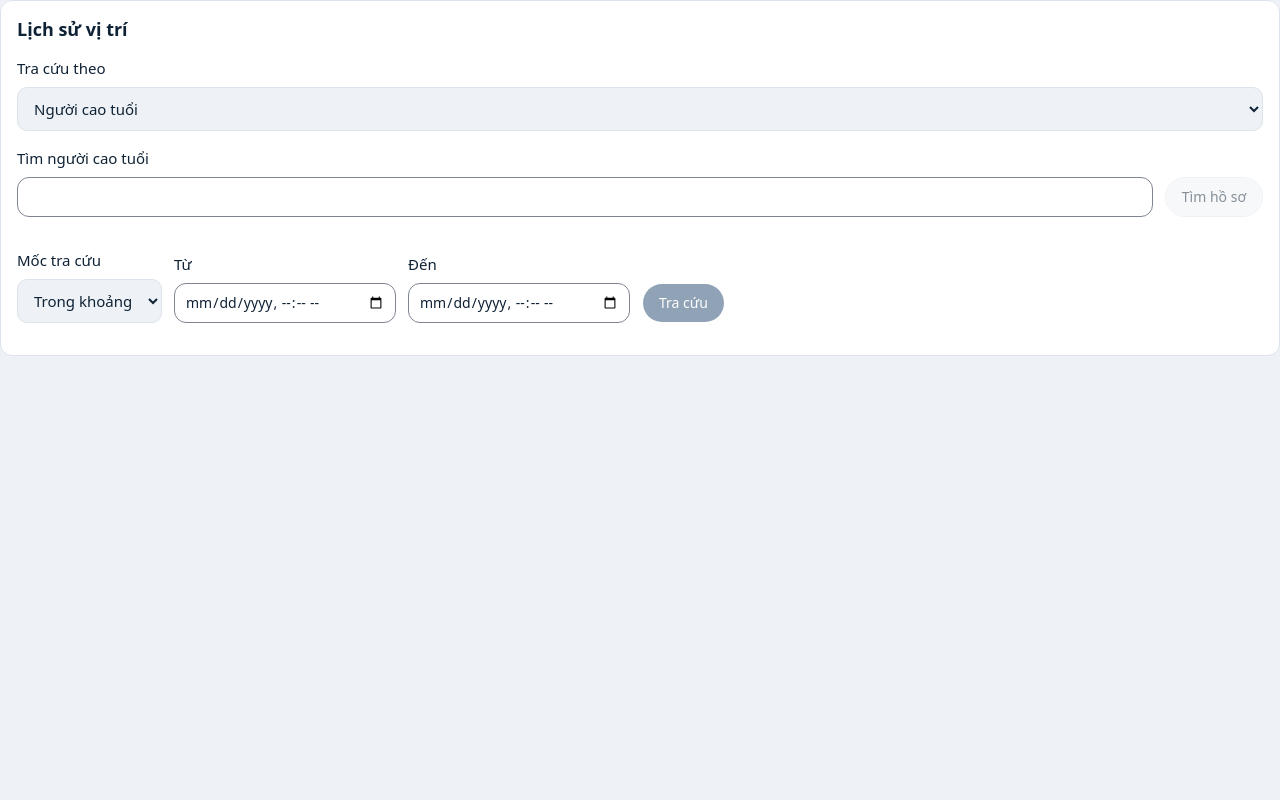
Test: FR_035_lookupShowsCorrectedAndPendingHistoryUsingVietnamTime
Type "NCT12" into the field labelled "Tìm người cao tuổi" at (585, 197), box [17,177,1153,217]
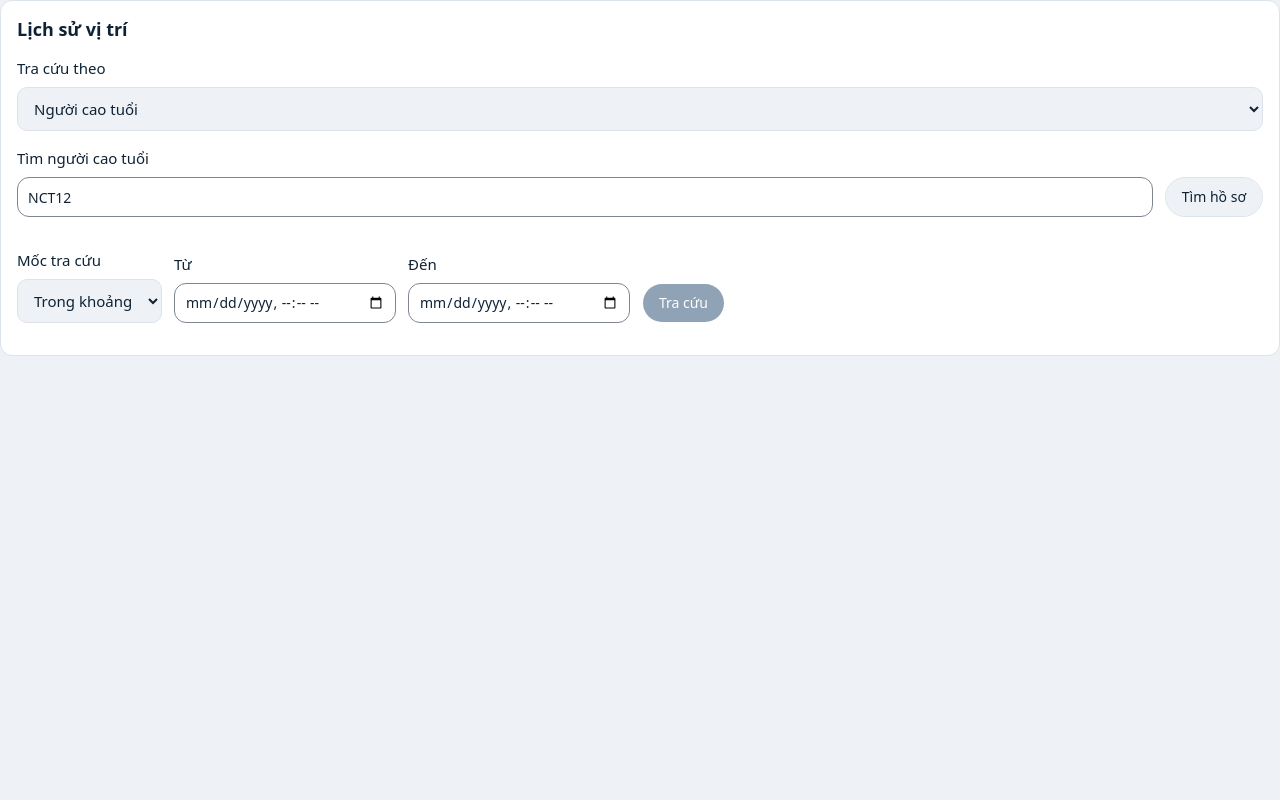
Click the button "Tìm hồ sơ" at (1214, 197), box [1165,177,1263,217]
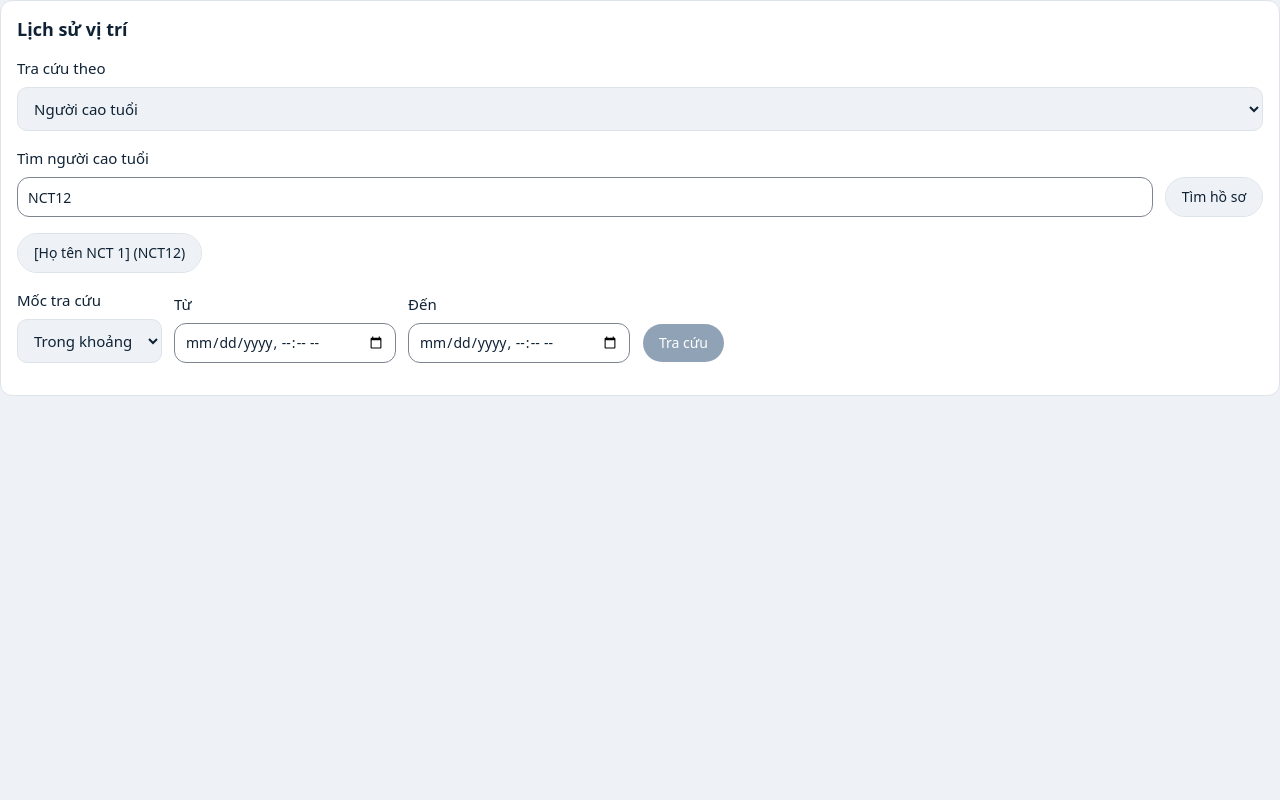
Click the button with aria-label "Chọn NCT12" at (110, 253), box [17,233,202,273]
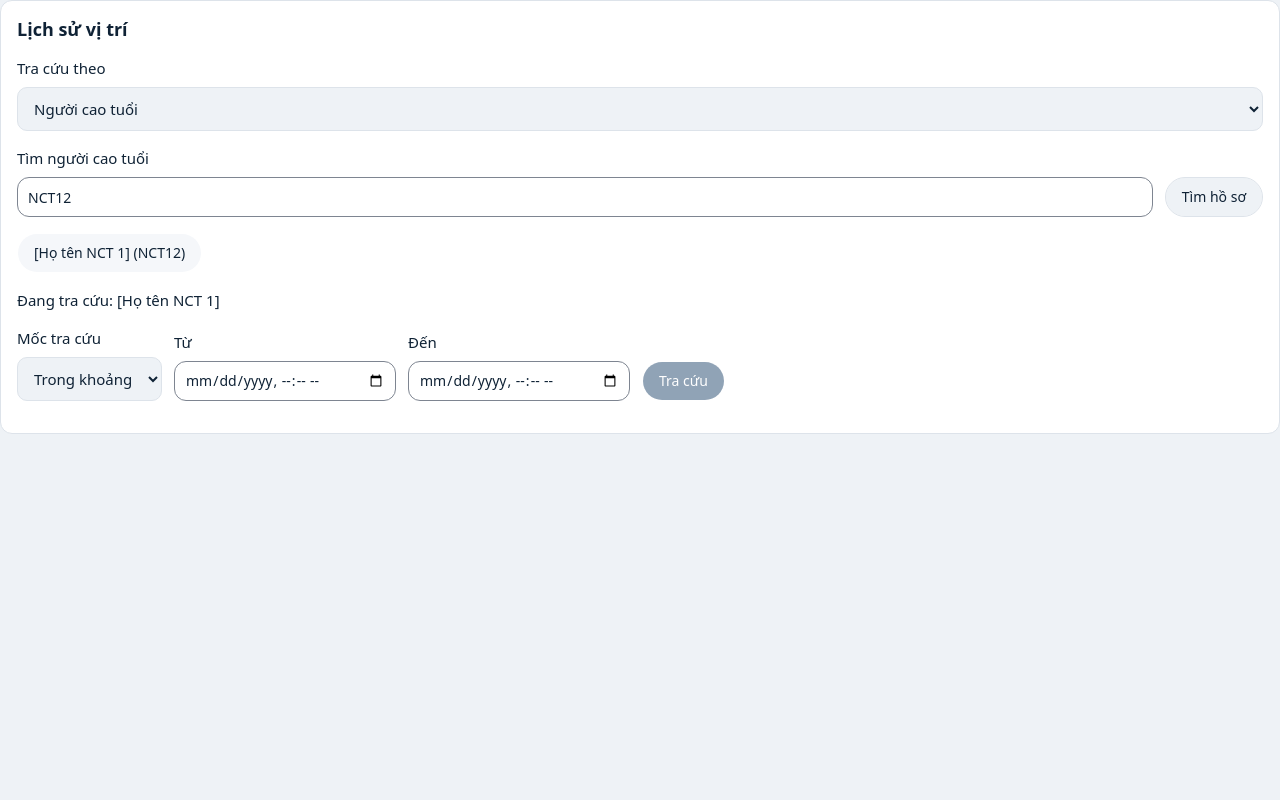
Type "2026-01-01T07:00" into the field labelled "Từ" at (285, 381), box [174,361,396,401]
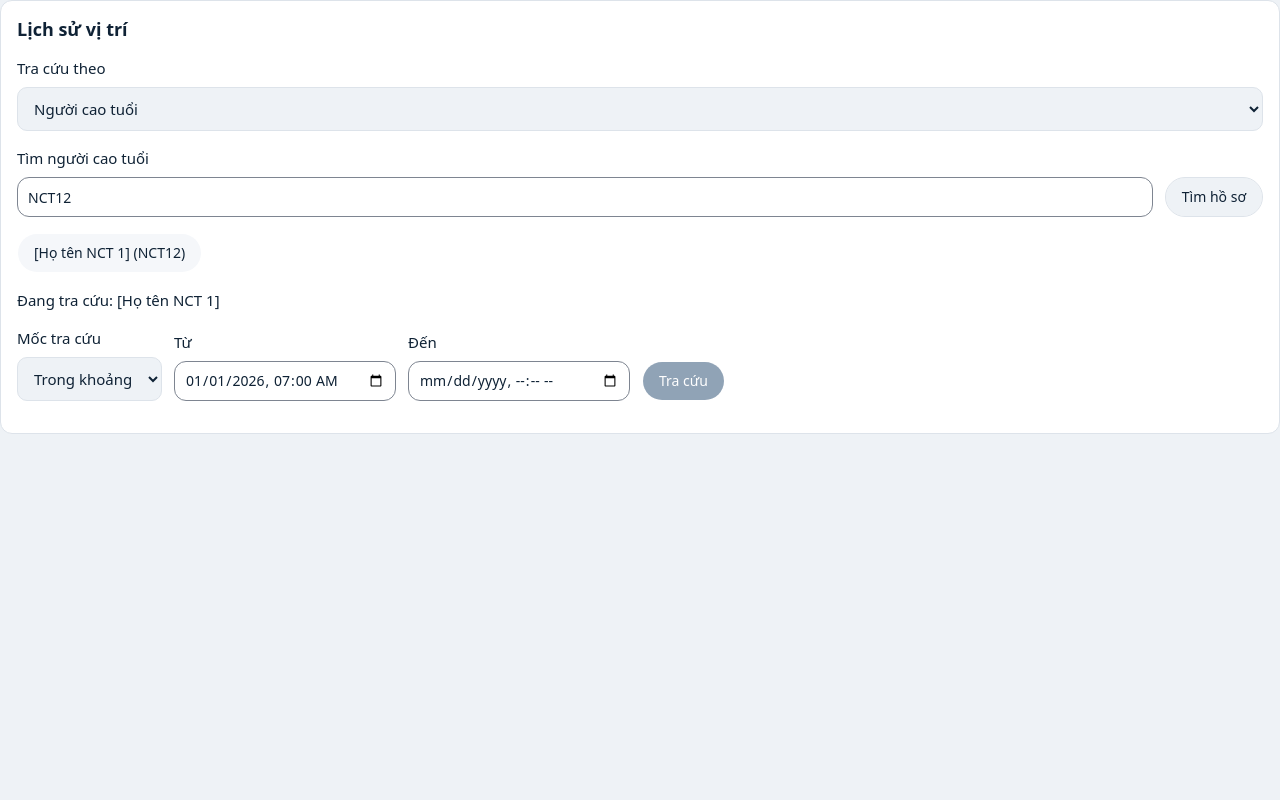
Type "2026-01-02T07:00" into the field labelled "Đến" at (519, 381), box [408,361,630,401]
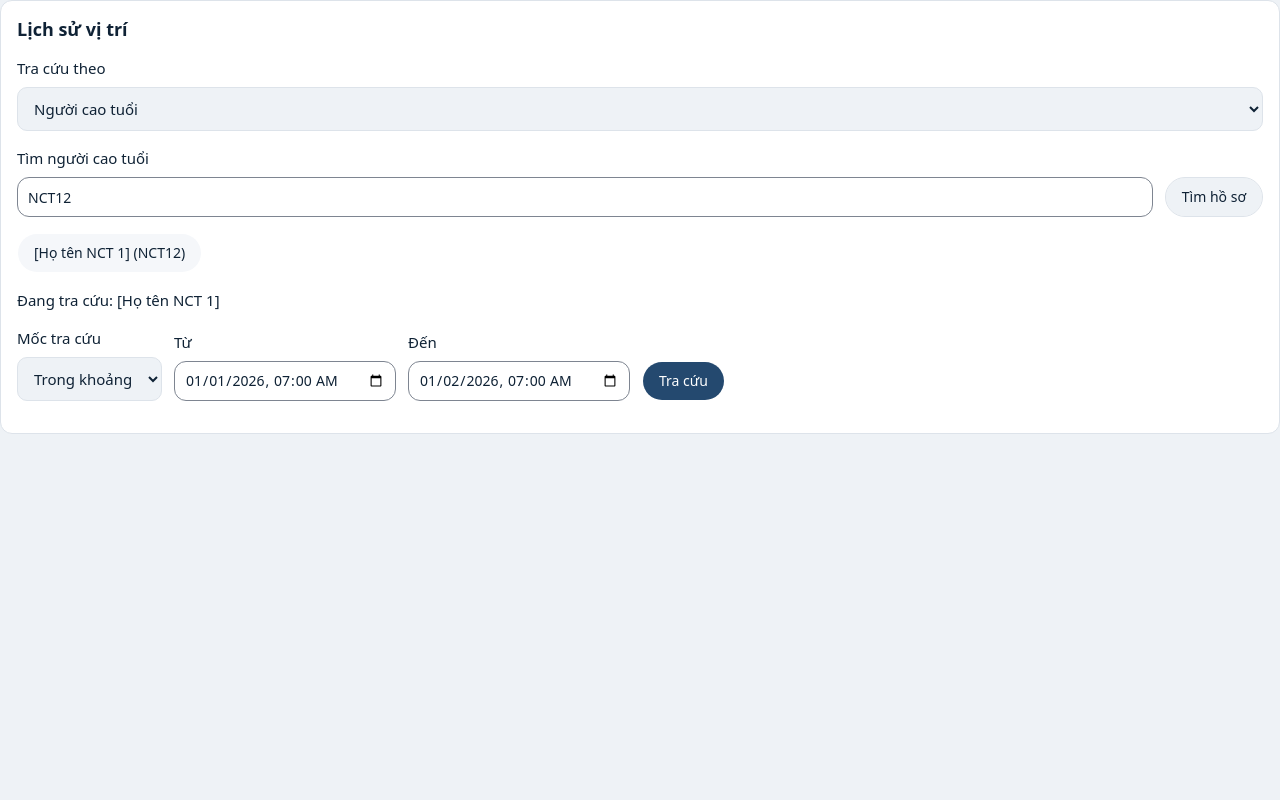
Click the button "Tra cứu" at (683, 381), box [642,361,725,401]
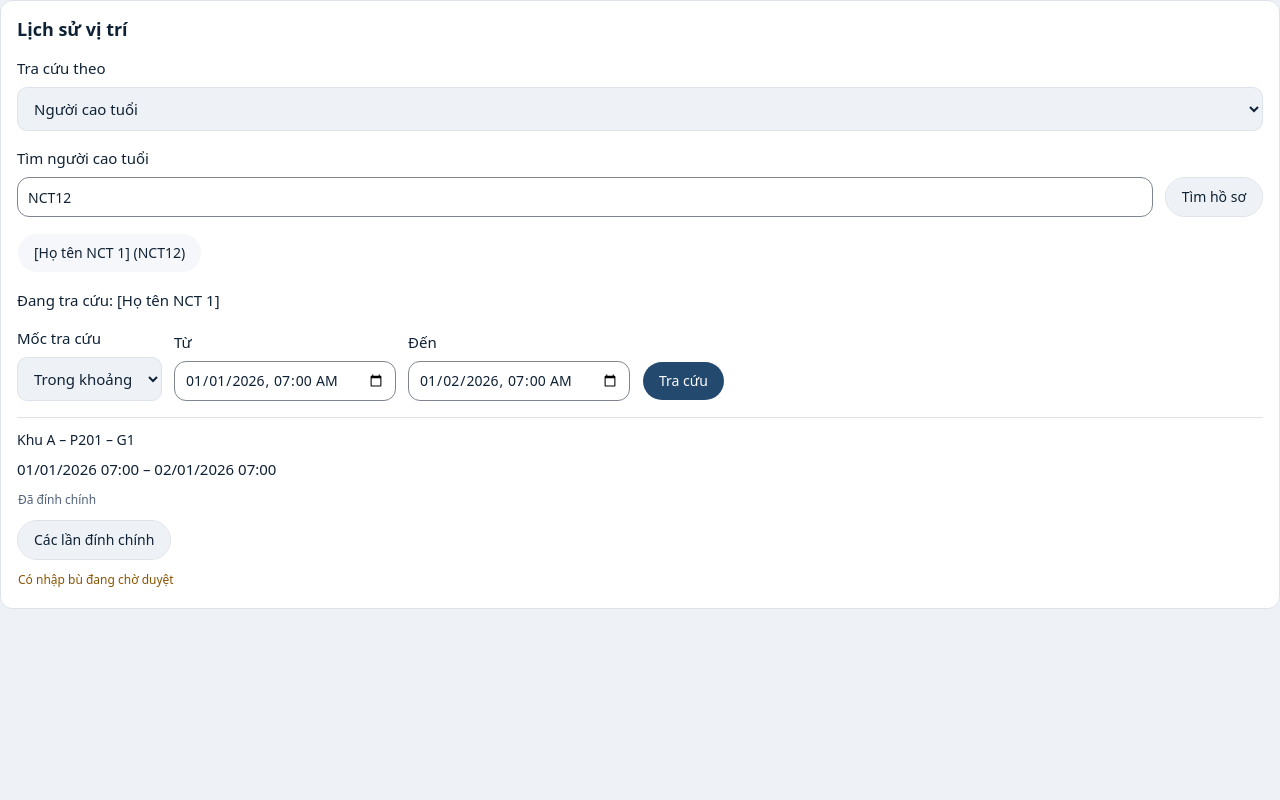
expect the text "Khu A – P201 – G1" is shown: met, box [17,430,135,449]
expect the text "01/01/2026 07:00" is shown: met, box [17,459,139,479]
expect the text "Đã đính chính" is shown: met, box [17,488,97,512]
